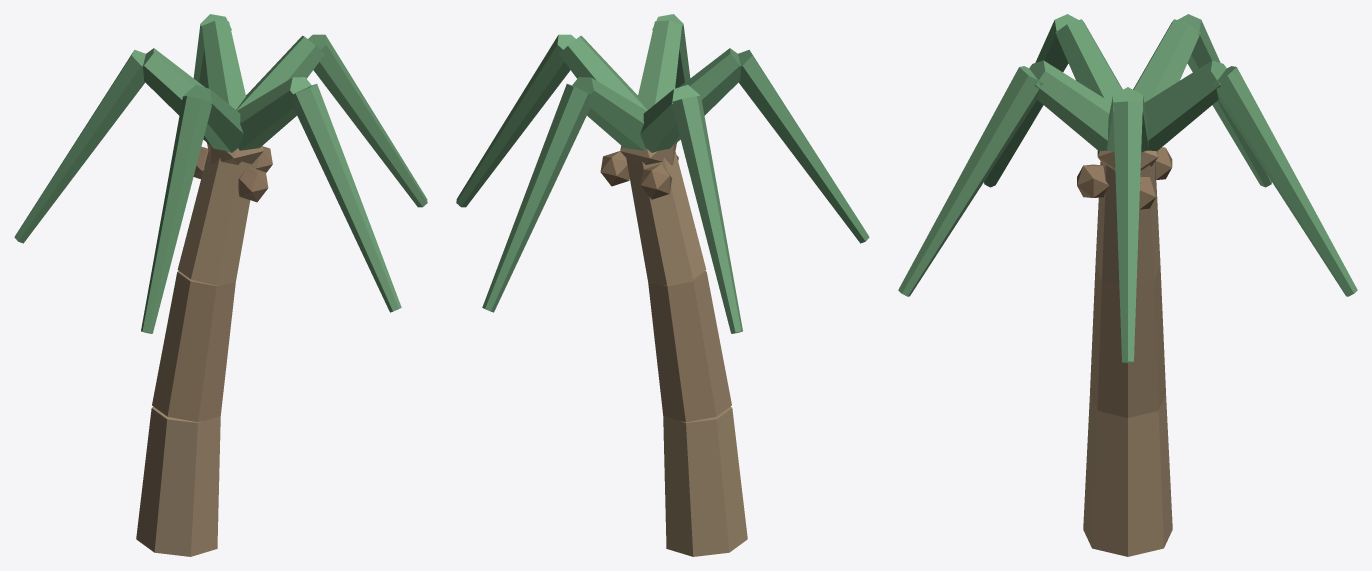
3 renders of one model, left to right at view 1: azimuth 30°, elevation 25°; view 2: azimuth 150°, elevation 25°; view 3: azimuth 270°, elevation 25°, orthographic. The views are drawn at different scales.
Parts seen in each view (by area): view 1: part0, part1, part2, part13, part11, part9, part5, part12, part6, part4, part8, part10 (+3 smaller); view 2: part0, part1, part2, part7, part9, part11, part5, part6, part12, part4, part10, part8 (+4 smaller); view 3: part0, part1, part7, part13, part5, part2, part6, part12, part8, part10, part9, part11 (+2 smaller).
Boxes of the visible parts, x1,y1,x2,y2 form: part0: (136,406,220,556); part1: (152,270,235,422); part2: (177,150,257,285); part13: (293,84,401,312); part11: (141,96,212,333); part9: (14,49,145,243); part5: (308,34,427,207); part12: (237,77,311,150); part6: (202,20,245,109); part4: (236,35,324,110); part8: (143,48,210,145); part10: (184,84,243,152); part0: (663,406,747,556); part1: (648,270,731,422); part2: (626,150,706,285); part7: (482,84,590,312); part9: (671,96,742,333); part11: (738,49,869,243); part5: (456,34,575,207); part6: (572,77,646,150); part12: (638,20,681,109); part4: (559,35,647,110); part10: (673,48,740,145); part8: (640,84,699,152); part0: (1083,395,1172,556); part1: (1090,265,1165,417); part7: (1212,66,1357,296); part13: (898,66,1043,296); part5: (1113,101,1142,362); part2: (1095,162,1160,284); part6: (1144,60,1226,151); part12: (1029,60,1111,151); part8: (1133,19,1200,102); part10: (1055,19,1122,102); part9: (1177,14,1271,187); part11: (984,14,1078,187).
Size of the model in its own units: 3.81 by 4.97 by 4.
